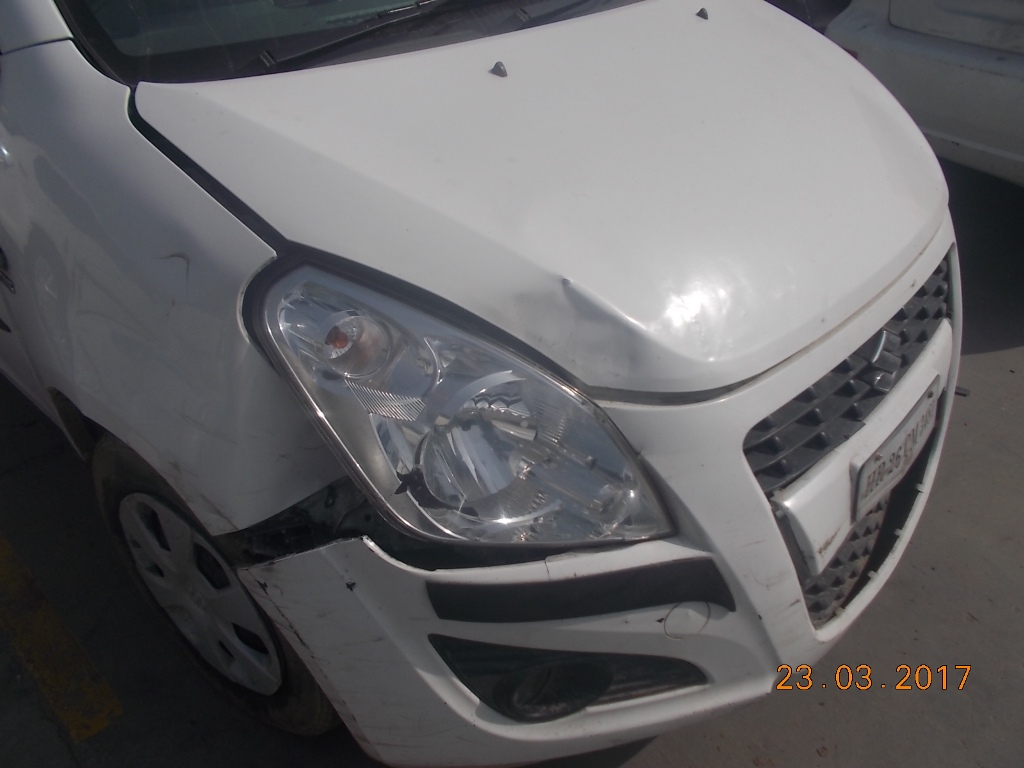Dent: (532, 273, 648, 366)
Dislocation: (194, 470, 381, 601)
